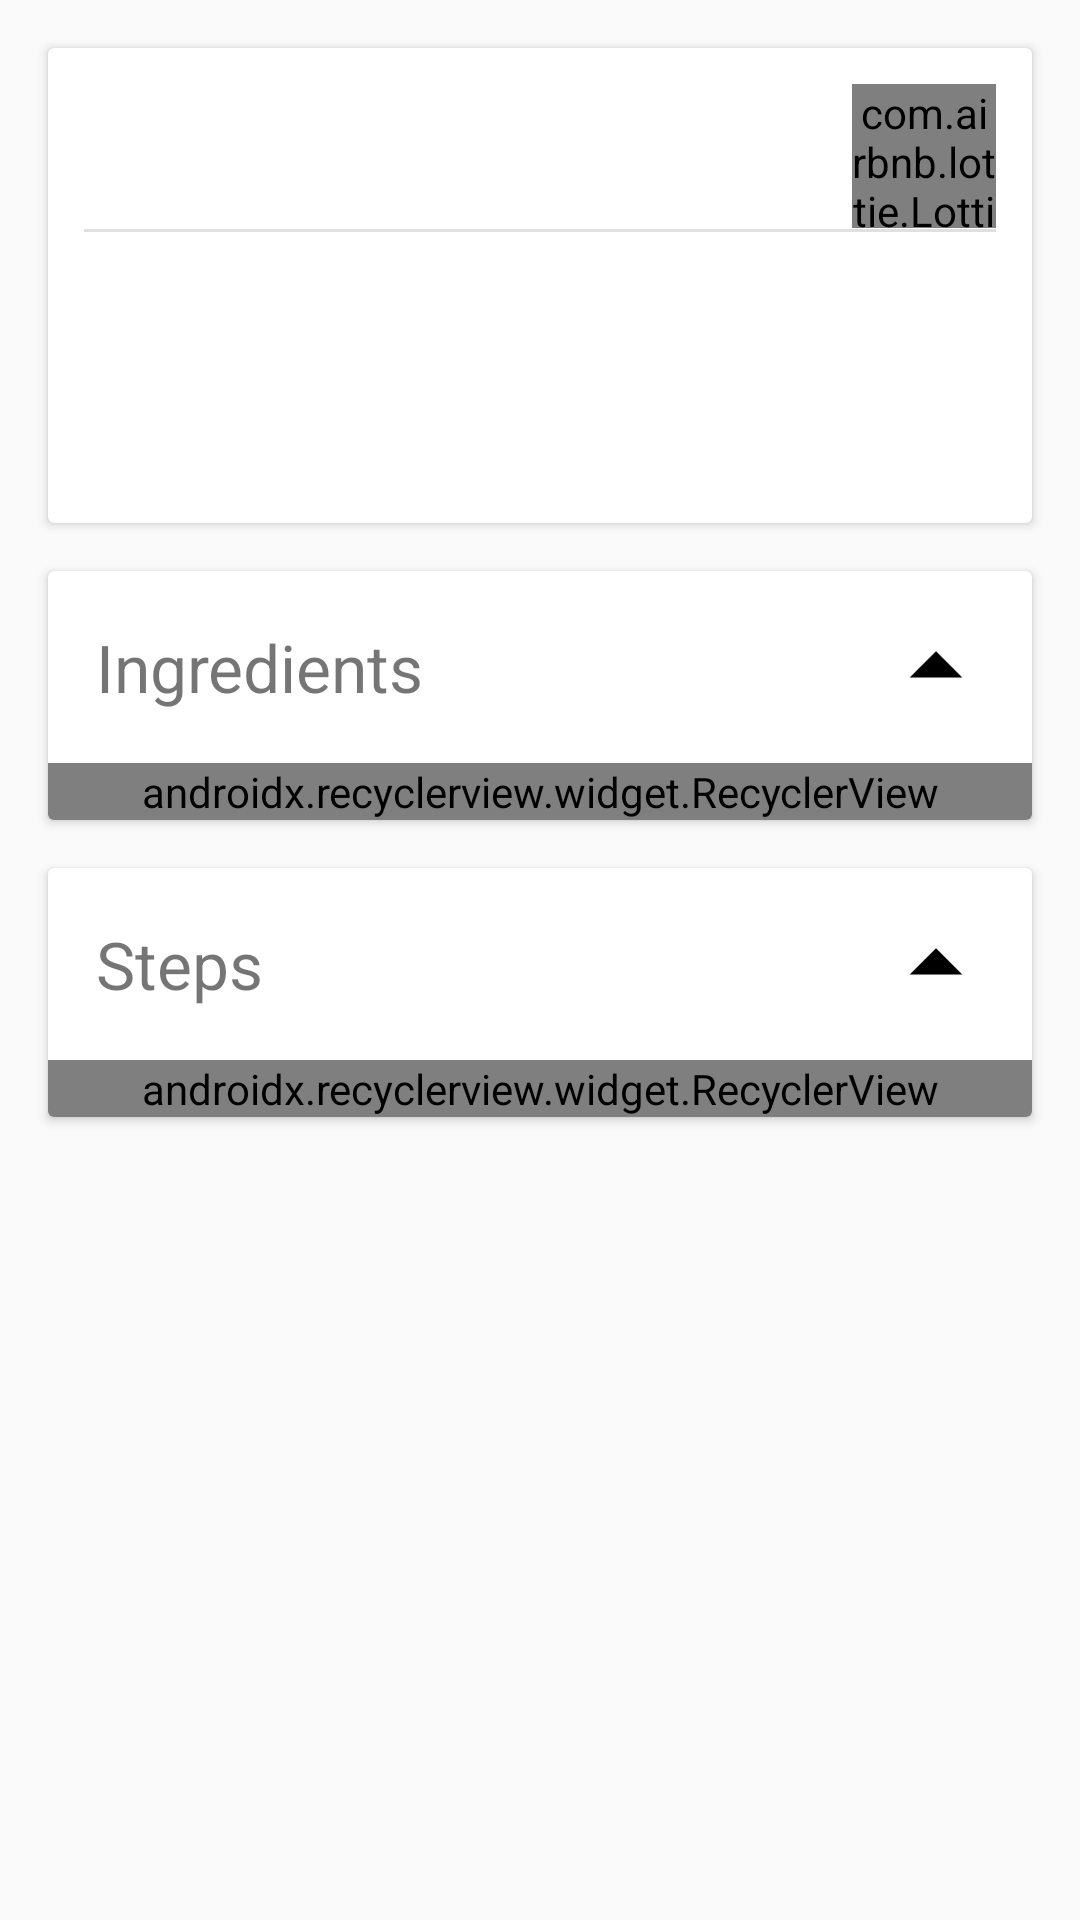

Icons on this 1080x1920 Android screen, each with the point to tap as [x,y]:
expand: [936,664], [936,961]
